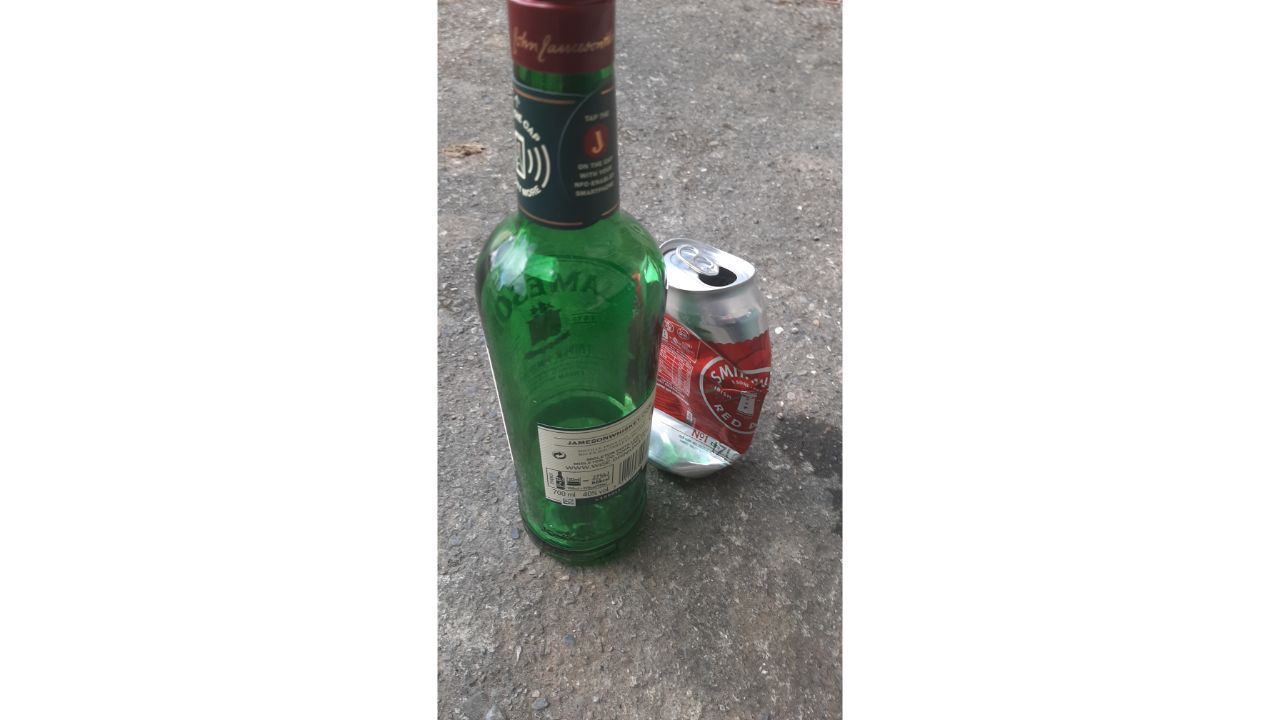Can: (624, 229, 782, 495)
